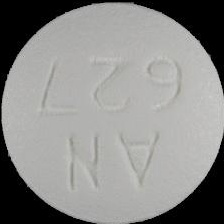63874-532: (0, 0, 224, 224)
